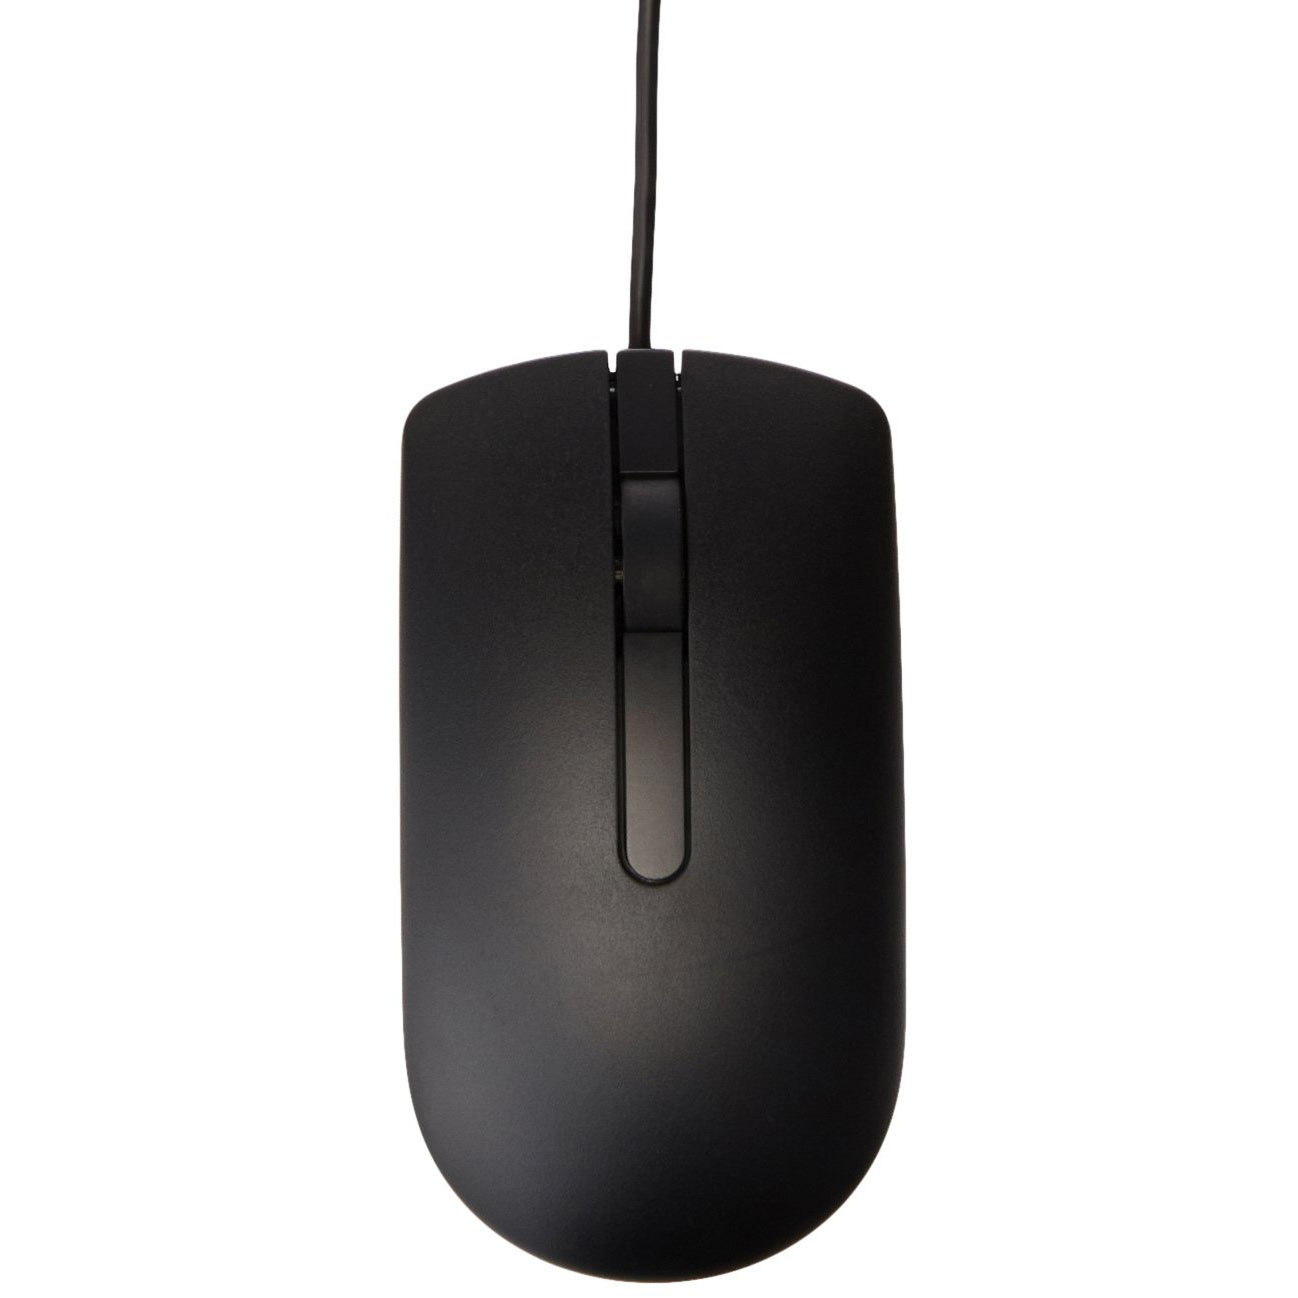dell-mouse-ms116: (386, 7, 915, 1294)
